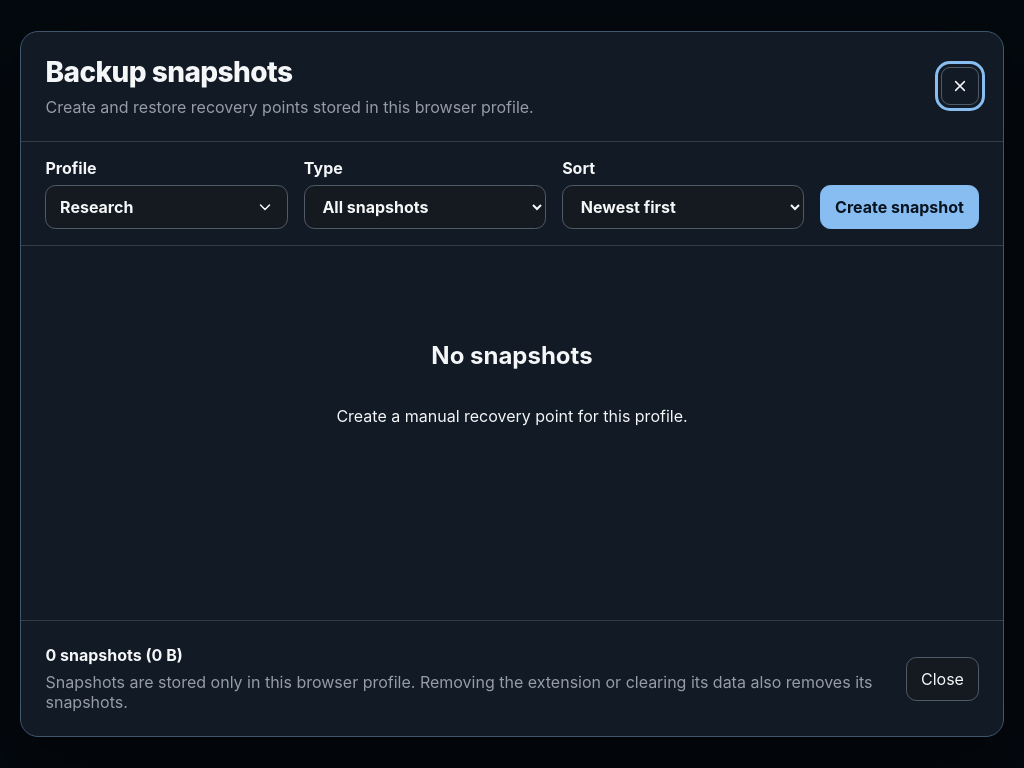
BackupDialog › shows creation guidance and the estimated size
expect the heading "No snapshots" is shown: met, box [431,341,593,370]
Click the button "Create snapshot". click: [900, 207]
box: [820,185,978,229]
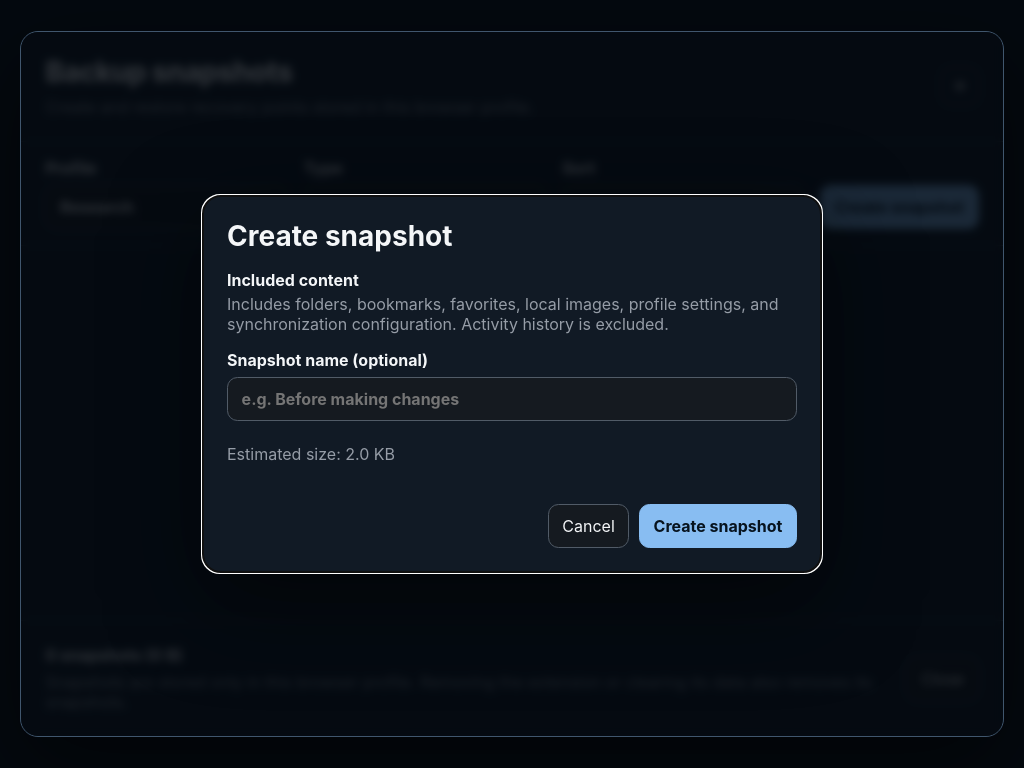
expect the text "Included content" is shown: met, box [227,270,359,290]
expect the field with placeholder "e.g. Before making changes" is shown: met, box [227,377,797,421]
expect the text "Estimated size: 2.0 KB" is shown: met, box [227,444,395,464]
